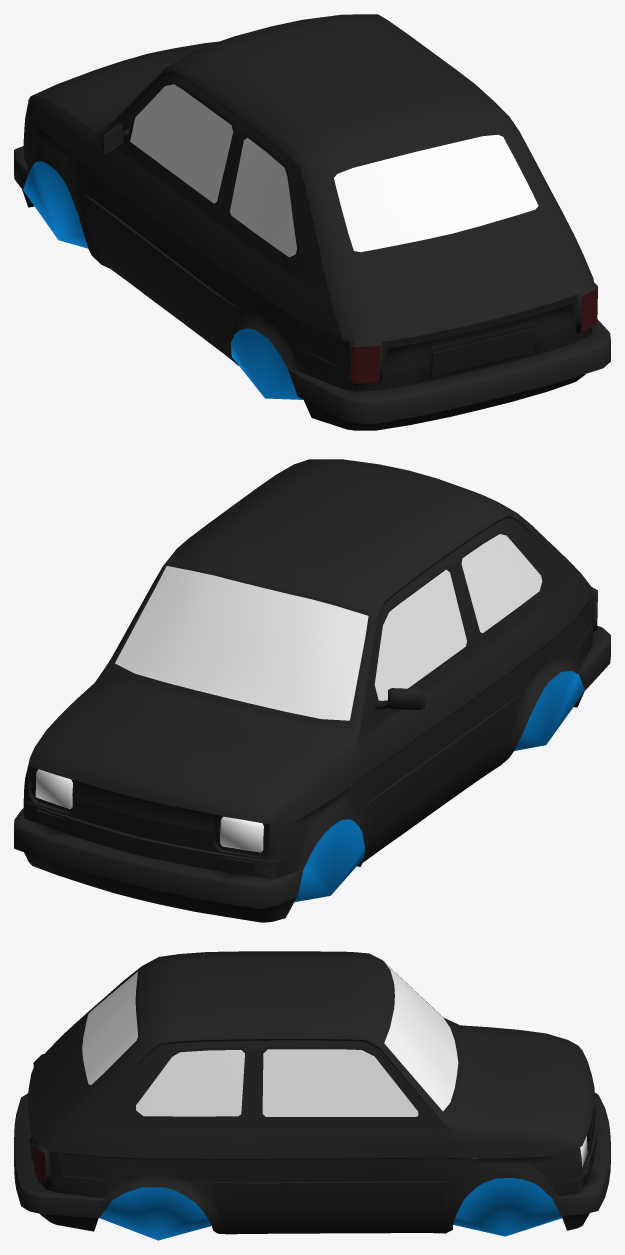
The picture shows the model from 3 angles, top to bottom: view 1: azimuth 30°, elevation 25°; view 2: azimuth 150°, elevation 25°; view 3: azimuth 270°, elevation 25°; orthographic projection. The views are drawn at different scales.
Visible parts, largest first — view 1: car; view 2: car; view 3: car.
Part boxes in pixels (x1=…): car: x1=14, y1=14, x2=610, y2=430; car: x1=14, y1=459, x2=610, y2=922; car: x1=14, y1=951, x2=610, y2=1240.
Size of the model in its own units: 1.5 by 1.13 by 3.04.
Materials: 13 (12 with a texture image).
